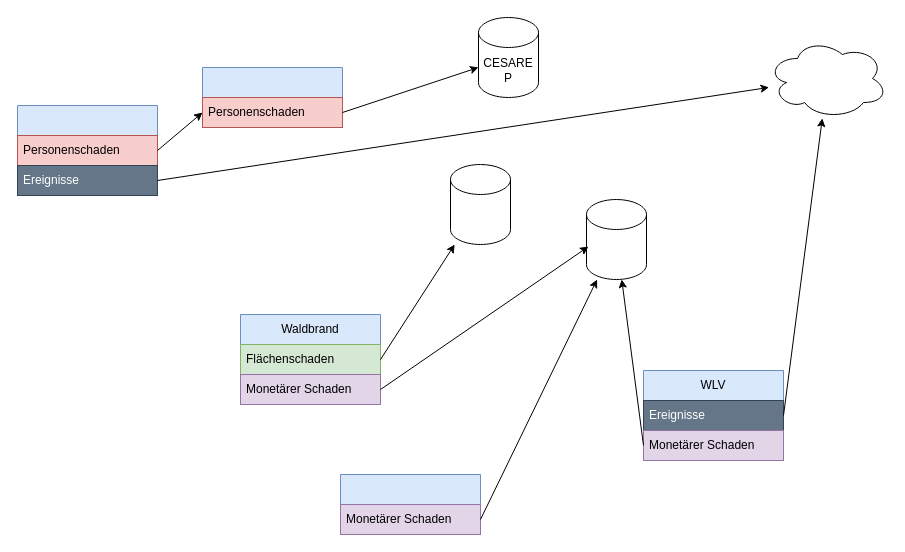
Image size: 905x552. Some labels were removed from this diagram. Each missing label, with the box of its shape:
CESARE Events: (766, 38, 888, 118)
CESARE m2: (450, 164, 510, 244)
CESARE €: (586, 198, 646, 280)
GEORIOS: (16, 104, 158, 196)
KatFond STMK: (340, 474, 480, 534)
VIOLA: (202, 66, 342, 128)
